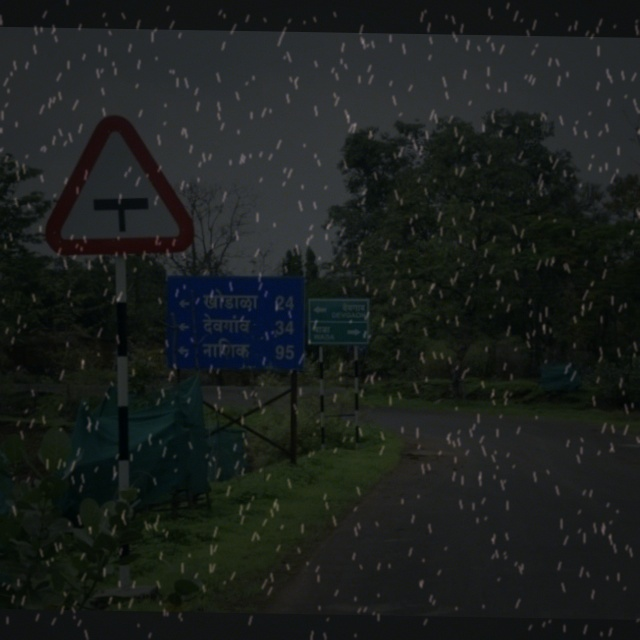T_Intersection: (46, 105, 204, 264)
